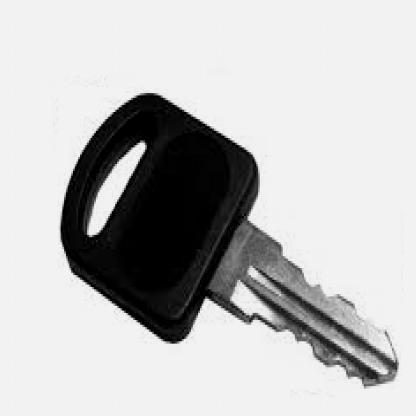key: (58, 87, 401, 389)
